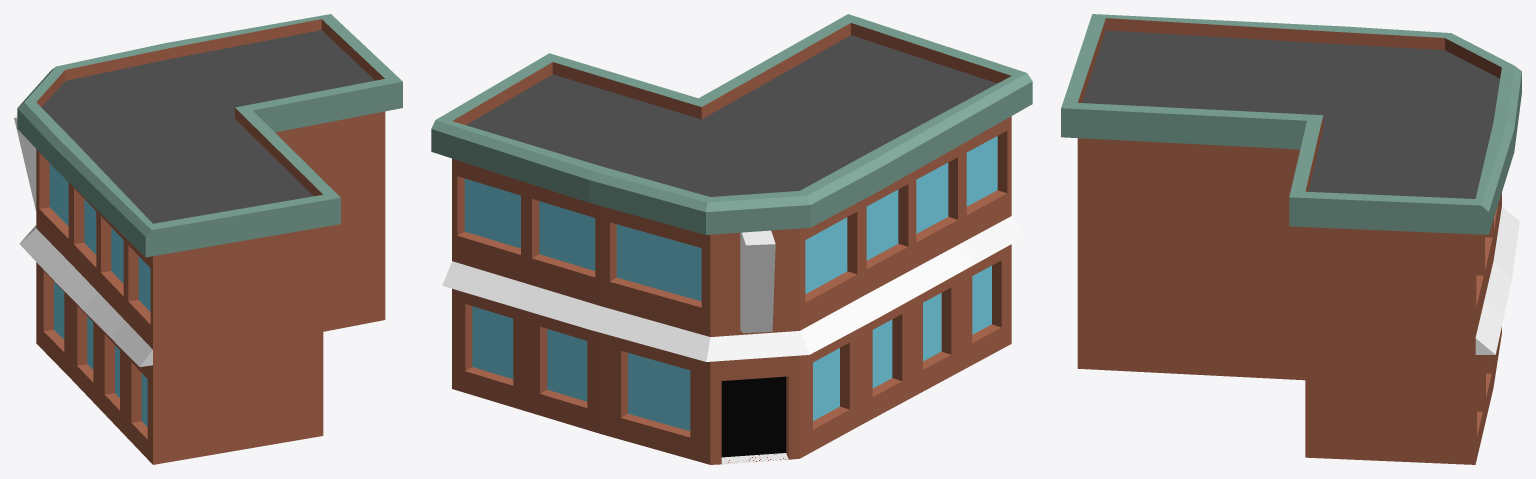
File: Shop_corner.fbx
The picture shows the model from 3 angles, left to right: view 1: azimuth 30°, elevation 25°; view 2: azimuth 150°, elevation 25°; view 3: azimuth 270°, elevation 25°; orthographic projection. The views are drawn at different scales.
Parts seen in each view (by area): view 1: Building_01; view 2: Building_01; view 3: Building_01.
Part boxes in pixels (x1,y1,x2,y2): Building_01: (14, 14, 402, 464); Building_01: (431, 14, 1032, 464); Building_01: (1061, 14, 1521, 464).
Size of the model in its own units: 3483 by 2219 by 3481.
